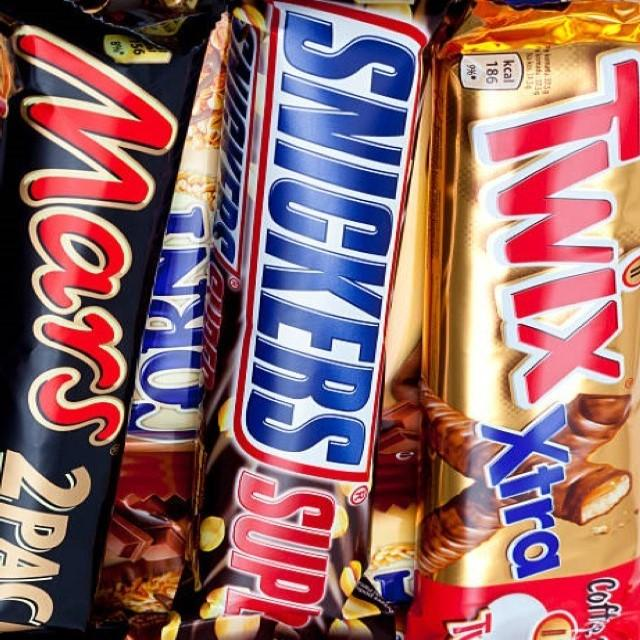mars_chocolate: (0, 26, 211, 639)
snickers_chocolate: (233, 18, 441, 640)
